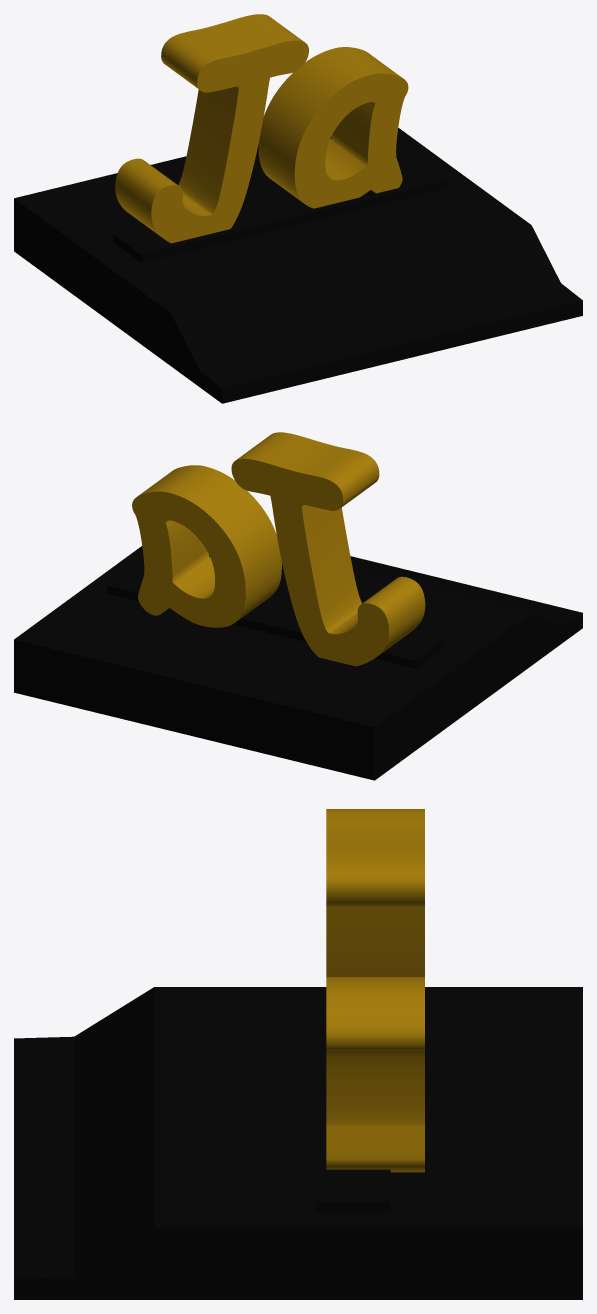
The picture shows the model from 3 angles, top to bottom: view 1: azimuth 30°, elevation 25°; view 2: azimuth 150°, elevation 25°; view 3: azimuth 270°, elevation 25°; orthographic projection. The views are drawn at different scales.
Parts seen in each view (by area): view 1: base.023, Text.001, Cube.001; view 2: base.023, Text.001, Cube.001; view 3: base.023, Text.001, Cube.001.
Boxes of the visible parts, x1=… form: base.023: x1=14, y1=128, x2=582, y2=403; Text.001: x1=115, y1=14, x2=408, y2=243; Cube.001: x1=113, y1=159, x2=449, y2=262; base.023: x1=14, y1=546, x2=582, y2=780; Text.001: x1=132, y1=432, x2=425, y2=666; Cube.001: x1=107, y1=565, x2=443, y2=668; base.023: x1=14, y1=987, x2=582, y2=1299; Text.001: x1=326, y1=809, x2=424, y2=1172; Cube.001: x1=315, y1=995, x2=390, y2=1212.
Bounding box in the file's own units: 79.88 × 49.72 × 79.88.
